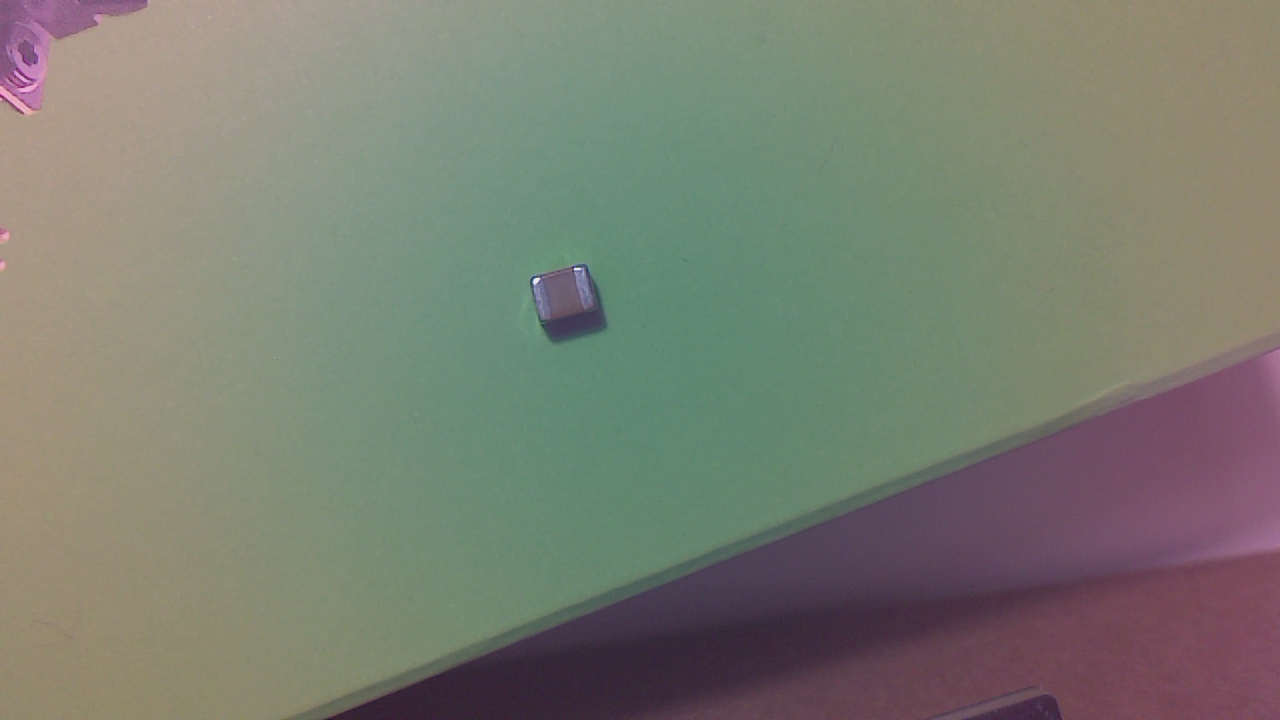Condensator: (533, 265, 605, 338)
